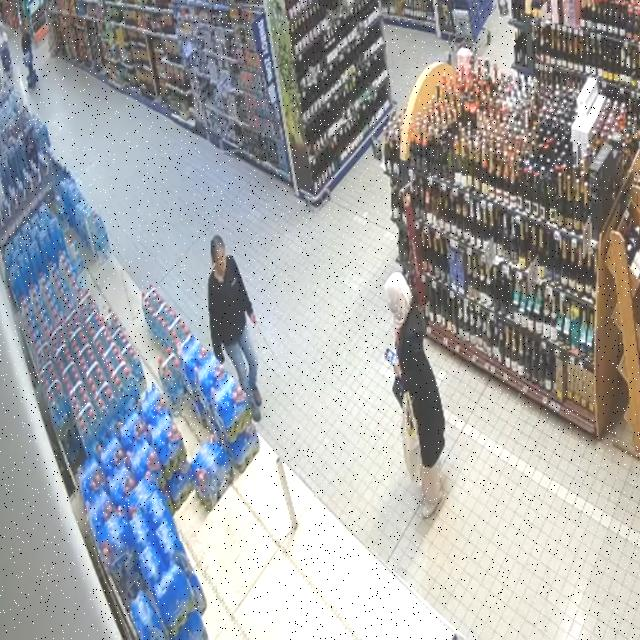bags: (402, 393, 421, 481)
hands: (393, 362, 402, 378), (250, 314, 257, 325)
person: (385, 273, 444, 517), (209, 236, 262, 421)
